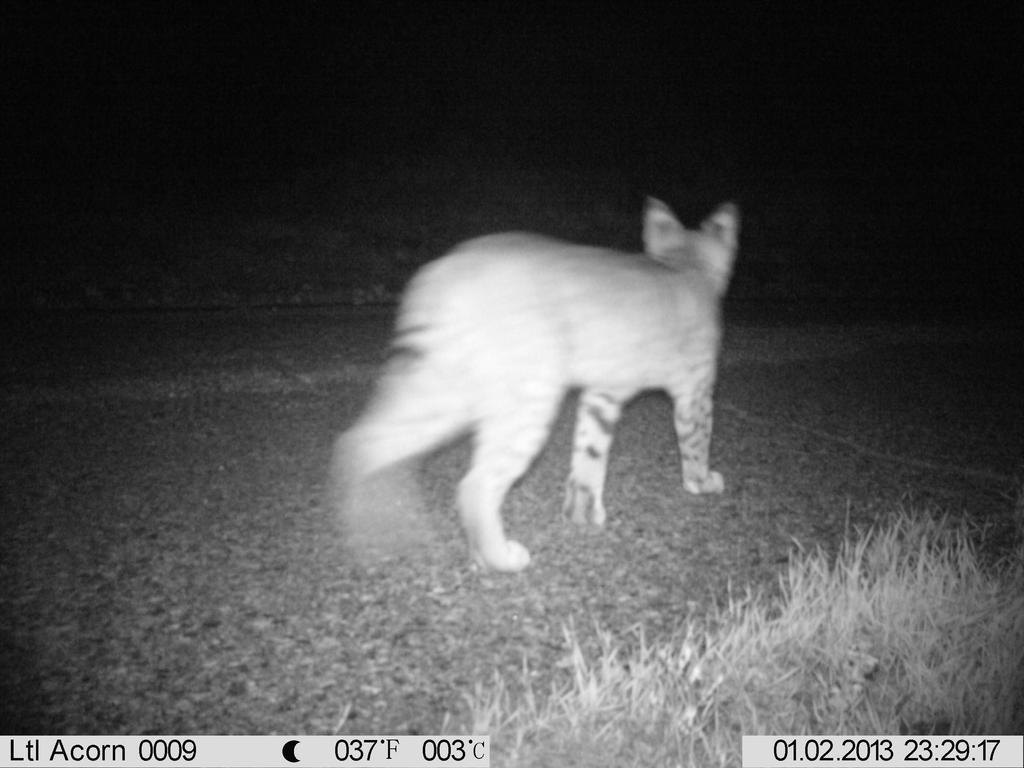bobcat: (300, 182, 772, 587)
